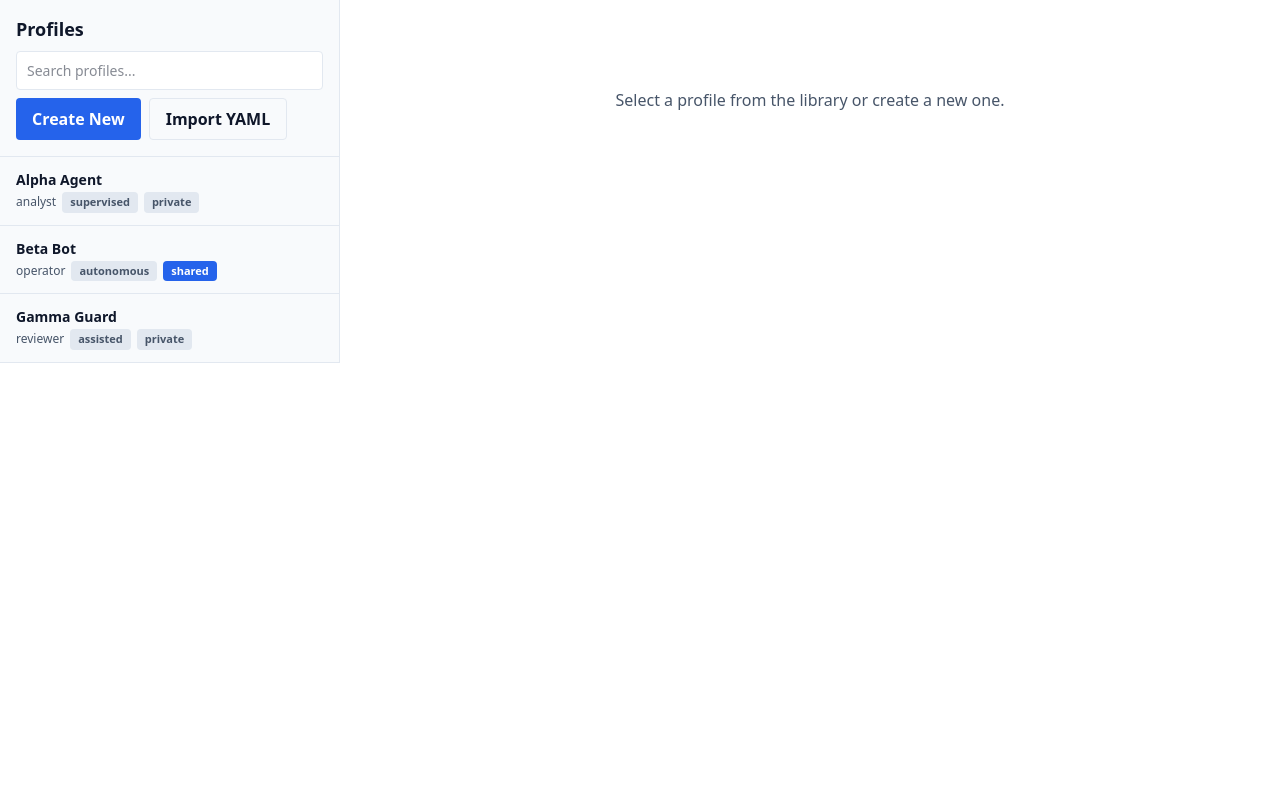
it: ProfilesPage — create new profile › shows editor form in create mode when Create New is clicked
Click the button "Create New".
click(78, 119)  # box [16, 98, 141, 140]
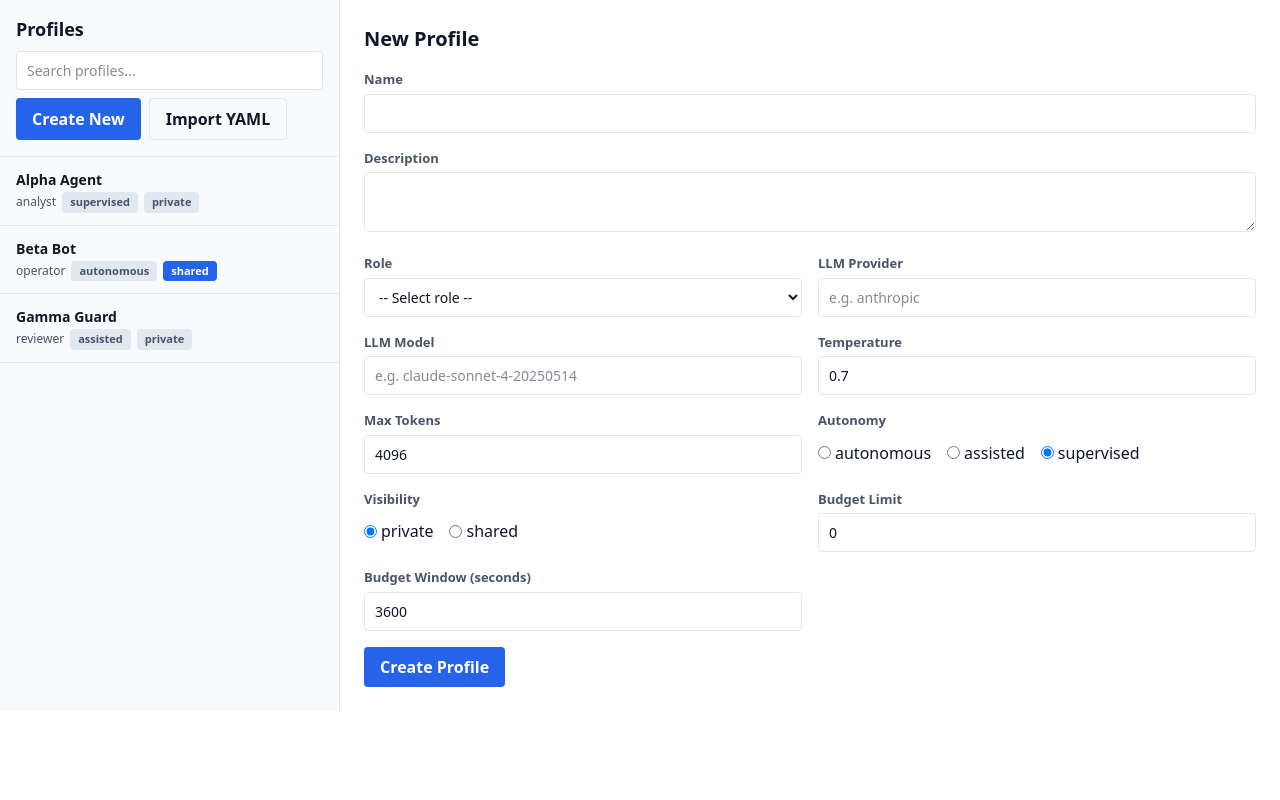
Result: the heading "New Profile" is shown at [364, 25, 479, 52]
Result: the button "Create Profile" is shown at [364, 646, 505, 686]
